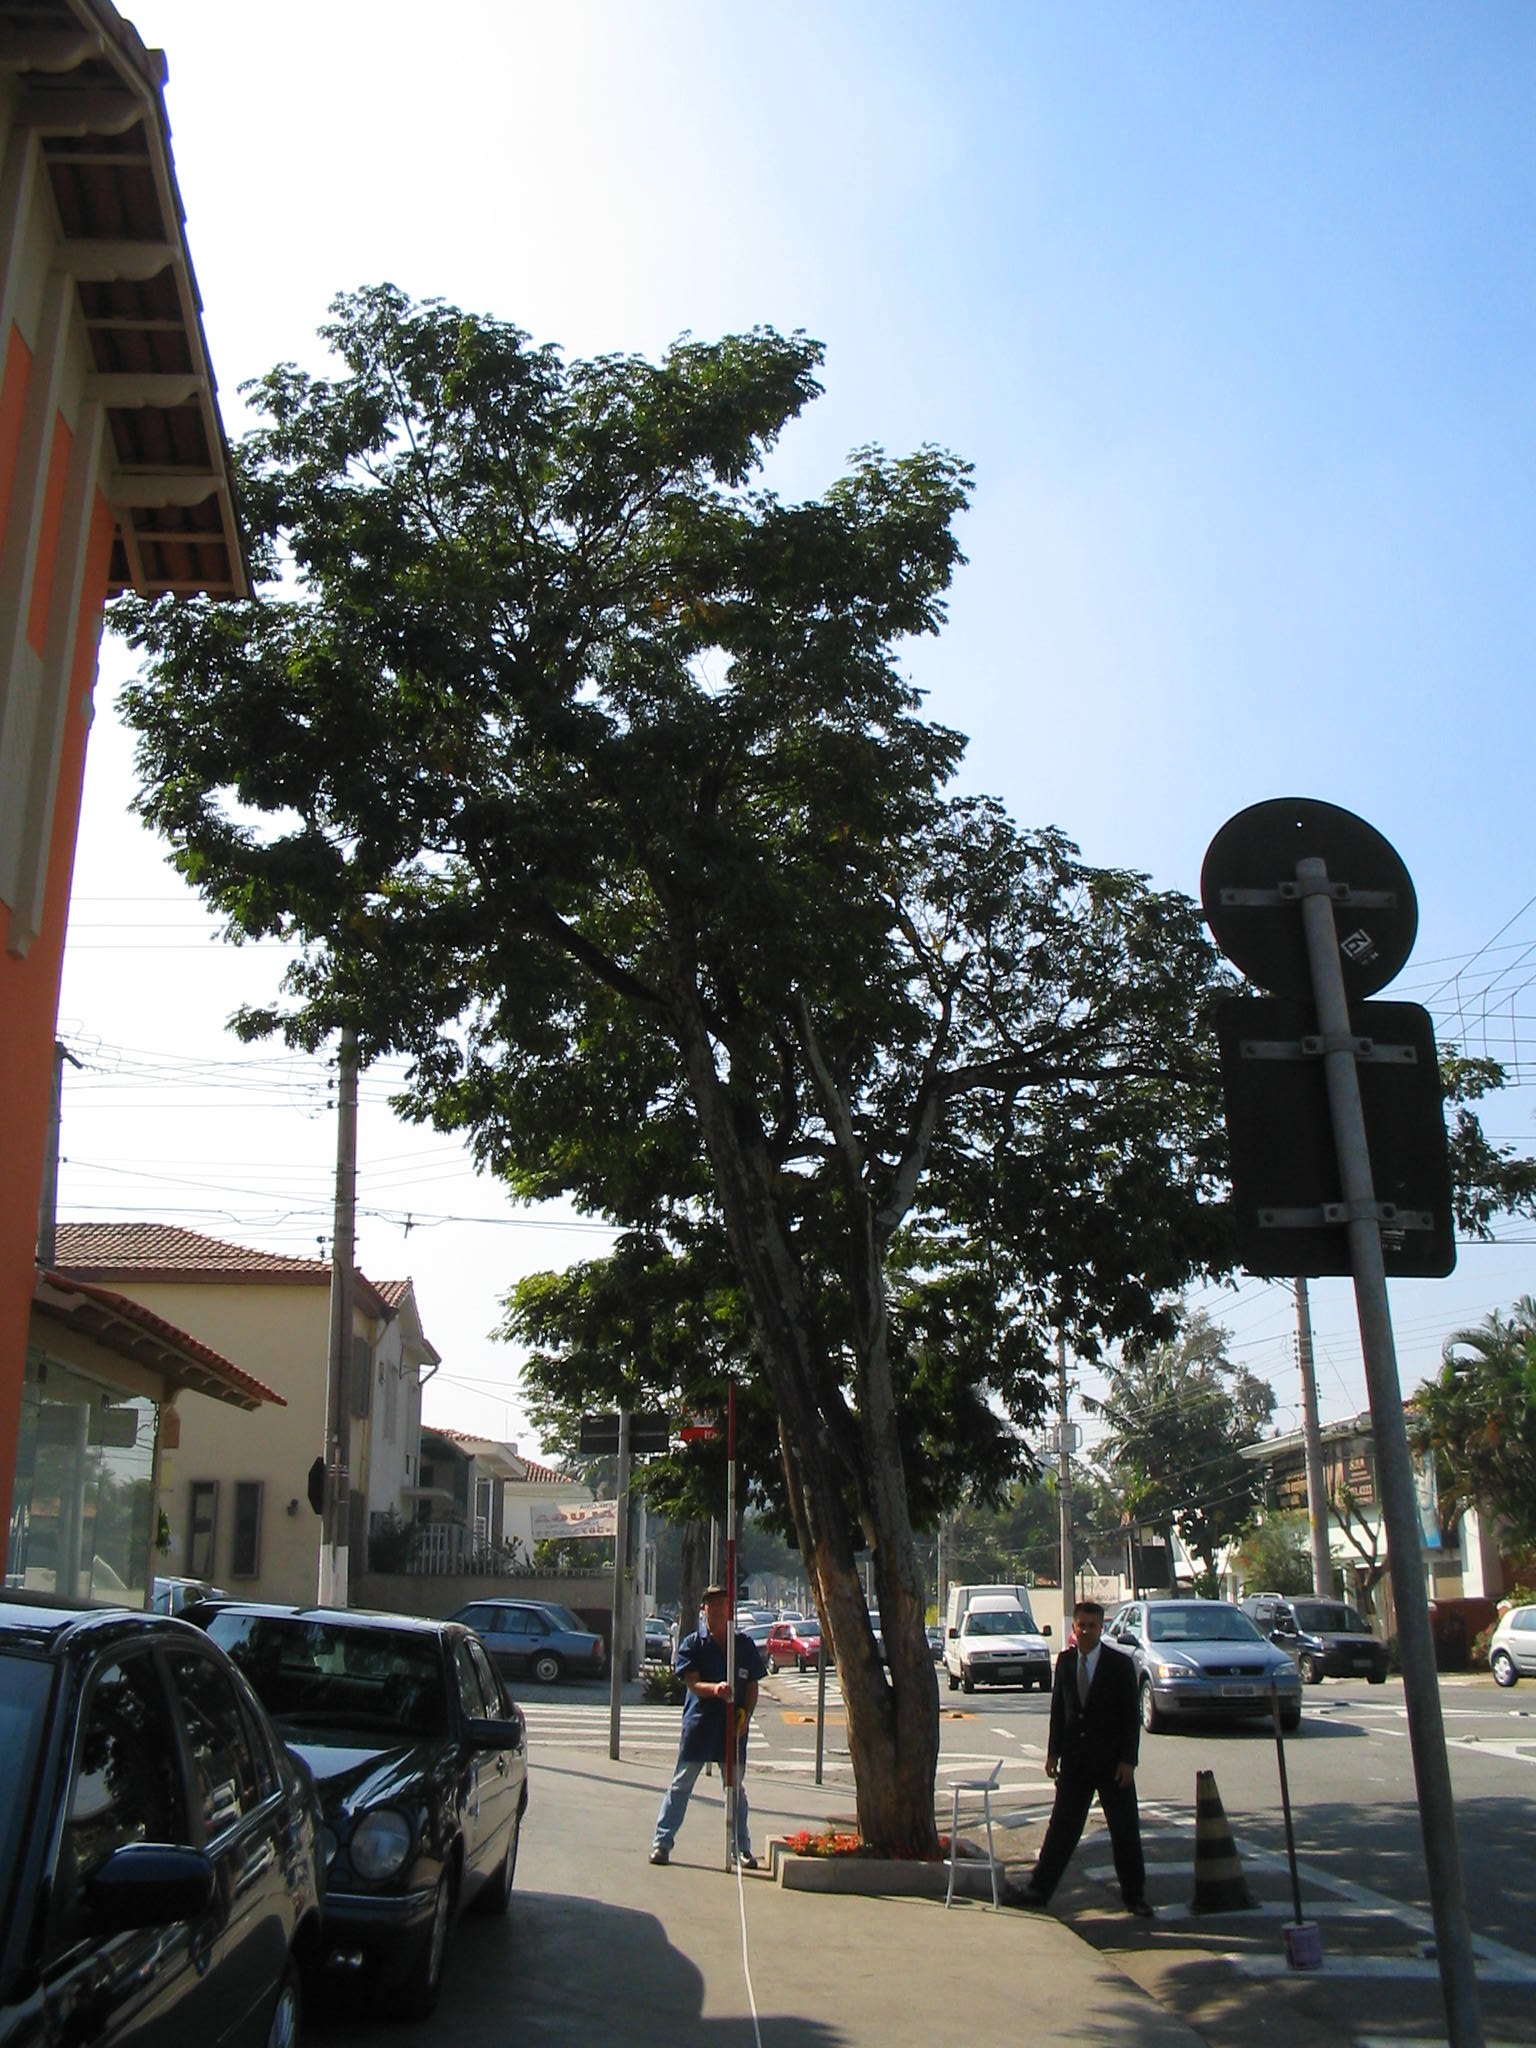crown: (113, 289, 1250, 1511)
stem: (824, 1701, 963, 1864)
stick: (705, 1380, 757, 1871)
tree: (106, 285, 1255, 1864)
